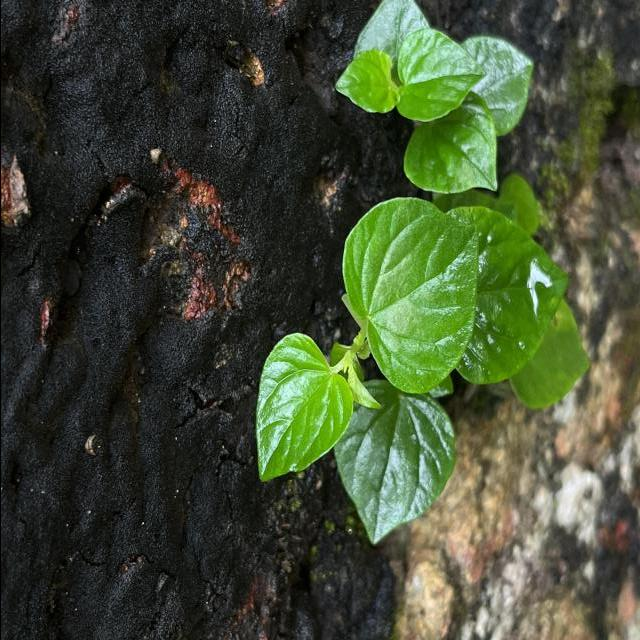Peperomia pellucida: (340, 195, 480, 395), (252, 332, 354, 484)
